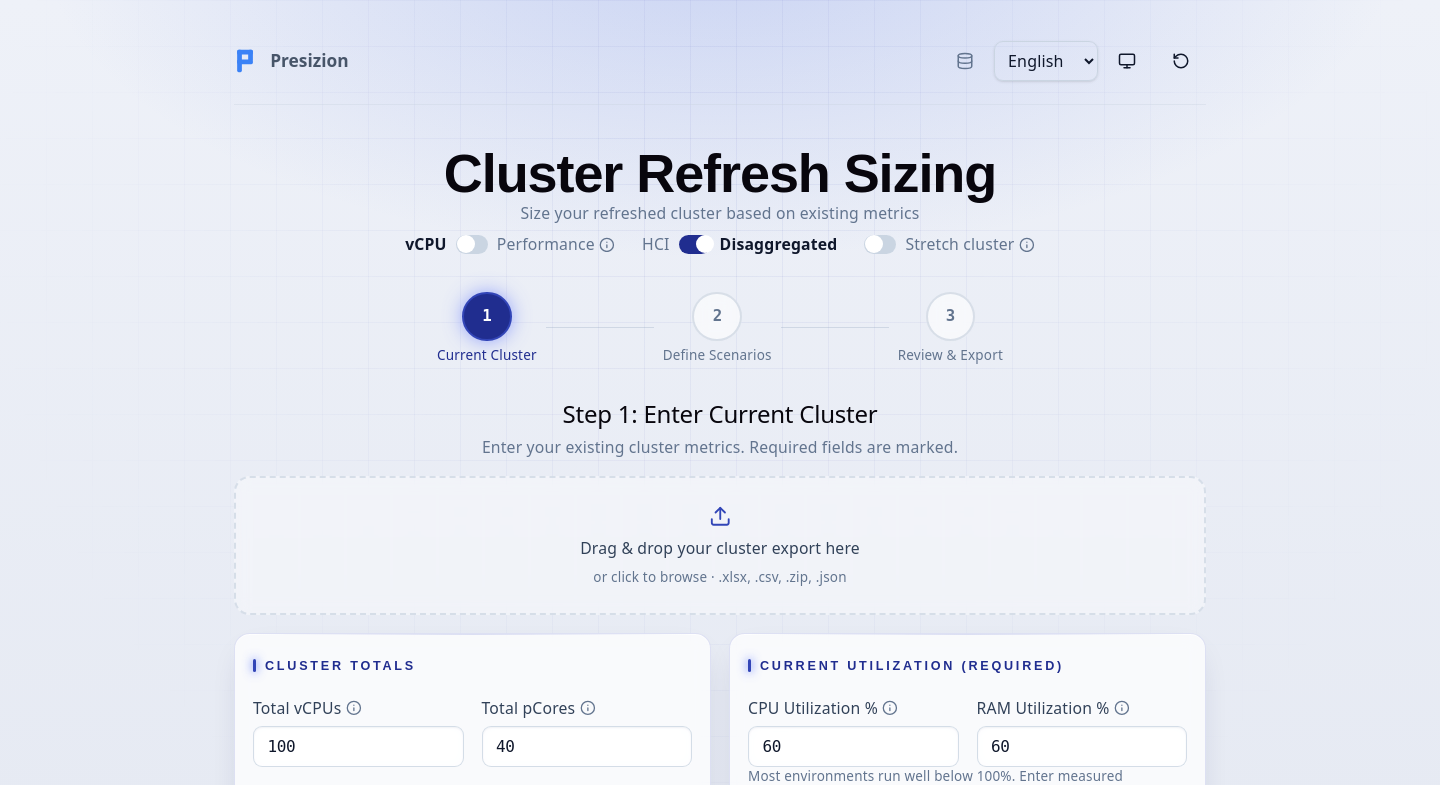
Test case: WizardShell › RESET-01..04: Reset button and confirmation › clicking Reset opens a confirmation dialog
The width and height of the screenshot is (1440, 785).
Click the button named "reset" at x=1181, y=61, box [1156,36,1206,86]
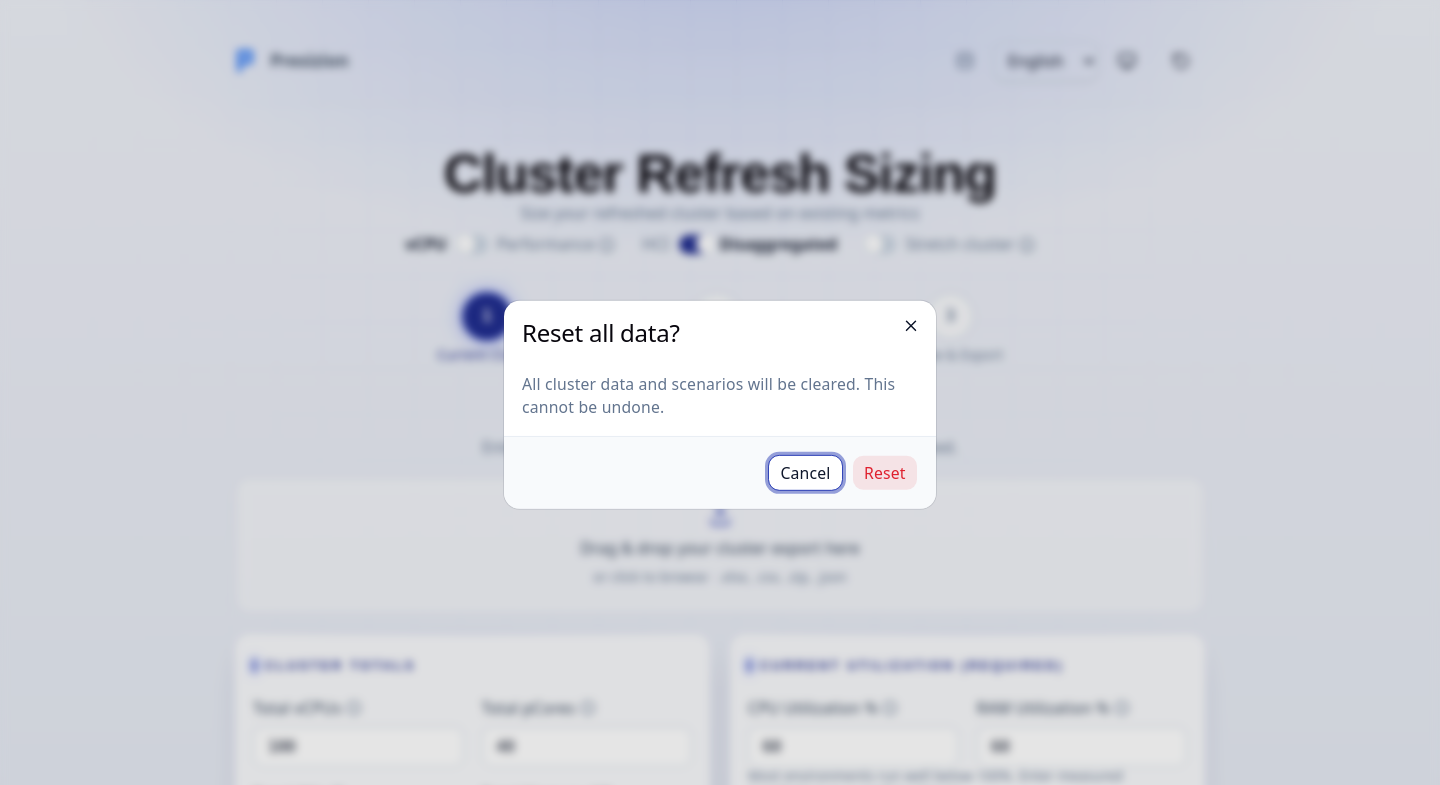
Check: the text "All cluster data and scenarios will be cleared" is shown, box [522,373,895,418]
